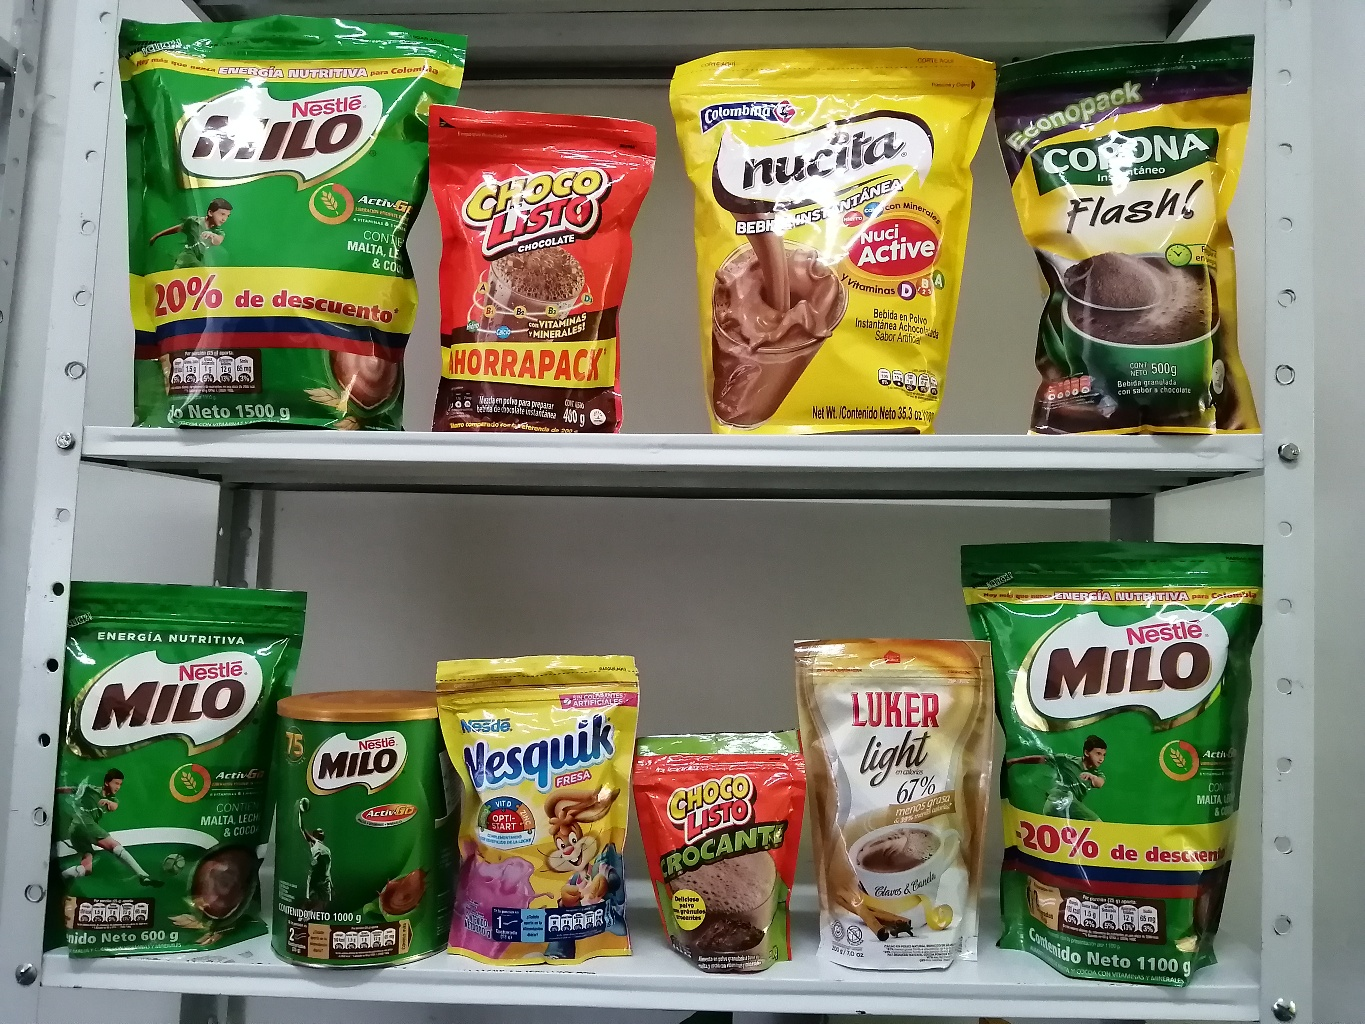COL0170102DYP10000: (644, 731, 804, 970)
COL0170103DYP40000: (427, 91, 657, 437)
COL0170305DYP20000: (436, 650, 641, 971)
